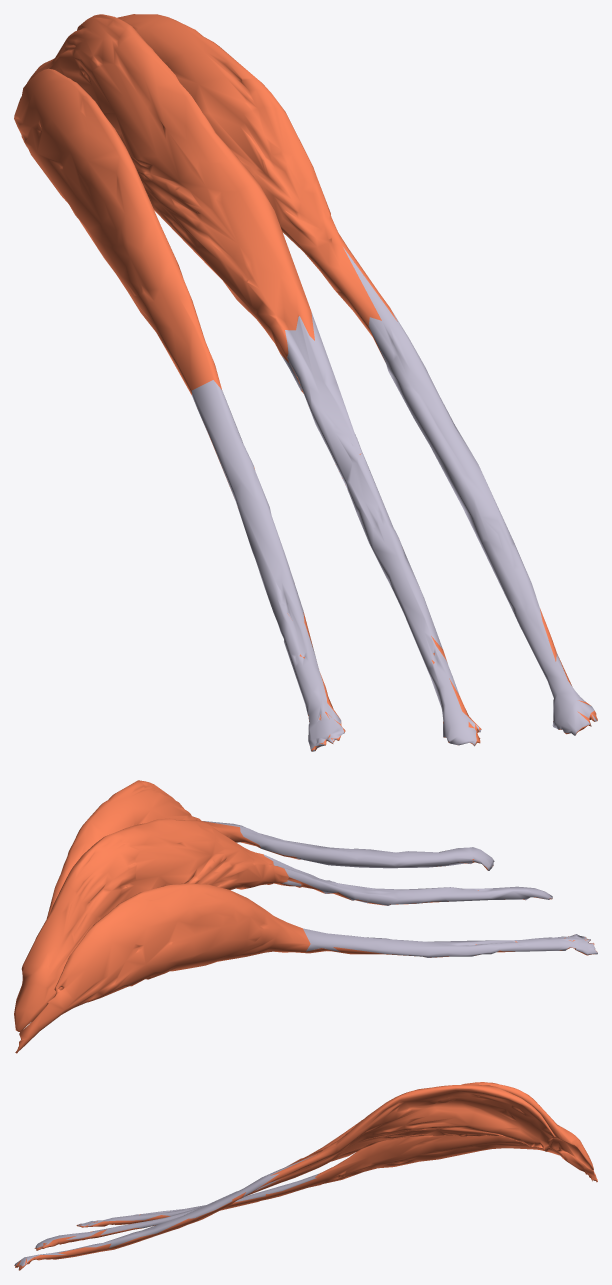
The model's file is Extensor_digitorum_brevis.r_Generated_Mesh_From_X3D.973.glb.
The picture shows the model from 3 angles, top to bottom: view 1: azimuth 30°, elevation 25°; view 2: azimuth 150°, elevation 25°; view 3: azimuth 270°, elevation 25°; orthographic projection. The views are drawn at different scales.
Parts seen in each view (by area): view 1: Extensor_digitorum_brevis.r_Generated_Mesh_From_X3D.973; view 2: Extensor_digitorum_brevis.r_Generated_Mesh_From_X3D.973; view 3: Extensor_digitorum_brevis.r_Generated_Mesh_From_X3D.973.
Boxes of the visible parts, <box> form: Extensor_digitorum_brevis.r_Generated_Mesh_From_X3D.973: <box>14,14,597,751</box>; Extensor_digitorum_brevis.r_Generated_Mesh_From_X3D.973: <box>14,780,597,1053</box>; Extensor_digitorum_brevis.r_Generated_Mesh_From_X3D.973: <box>14,1082,597,1270</box>.
Size of the model in its own units: 0.0428 by 0.0587 by 0.1542.
